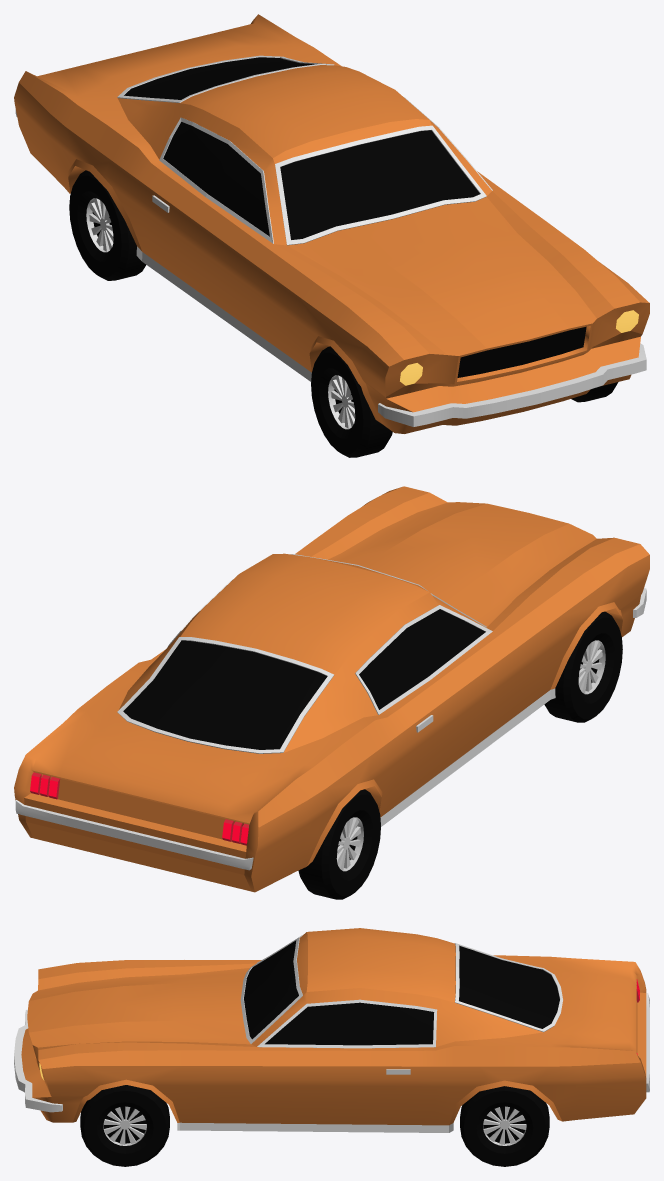
The model's file is mustang.glb.
3 views of the same model, one above another, from view 1: azimuth 30°, elevation 25°; view 2: azimuth 150°, elevation 25°; view 3: azimuth 270°, elevation 25° (orthographic). The views are drawn at different scales.
Visible parts, largest first — view 1: Frame, WheelsF, WheelsB, HoodRail, WindShield, SideWindow, BackShield; view 2: Frame, WheelsB, WheelsF, BackRail, BackShield, SideWindow, TailLights; view 3: Frame, WheelsF, WheelsB, SideWindow, HoodRail, BackShield, WindShield, BackRail.
Boxes of the visible parts, x1,y1,x2,y2 form: Frame: (14, 14, 649, 433); WheelsF: (311, 346, 618, 457); WheelsB: (69, 170, 145, 280); HoodRail: (378, 343, 646, 426); WindShield: (275, 125, 486, 245); SideWindow: (159, 97, 492, 243); BackShield: (117, 55, 334, 102); Frame: (14, 486, 649, 892); WheelsB: (298, 789, 380, 899); WheelsF: (544, 611, 622, 722); BackRail: (15, 800, 253, 870); BackShield: (117, 637, 334, 753); SideWindow: (167, 580, 492, 714); TailLights: (30, 772, 248, 845); Frame: (21, 928, 646, 1132); WheelsF: (80, 1085, 169, 1166); WheelsB: (460, 1086, 549, 1166); SideWindow: (257, 958, 437, 1048); HoodRail: (14, 1009, 62, 1112); BackShield: (455, 943, 562, 1032); WindShield: (240, 935, 302, 1043); BackRail: (646, 993, 649, 1092).
Size of the model in its own units: 1.32 by 0.992 by 3.41.
